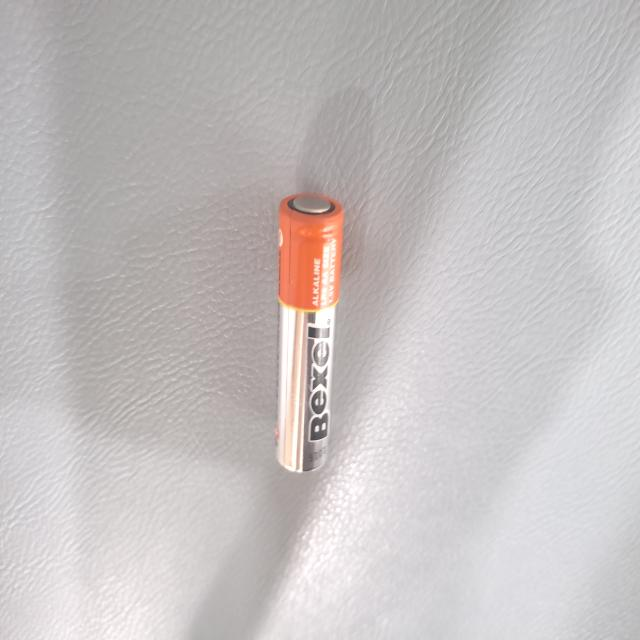AA: (125, 363, 336, 460)
